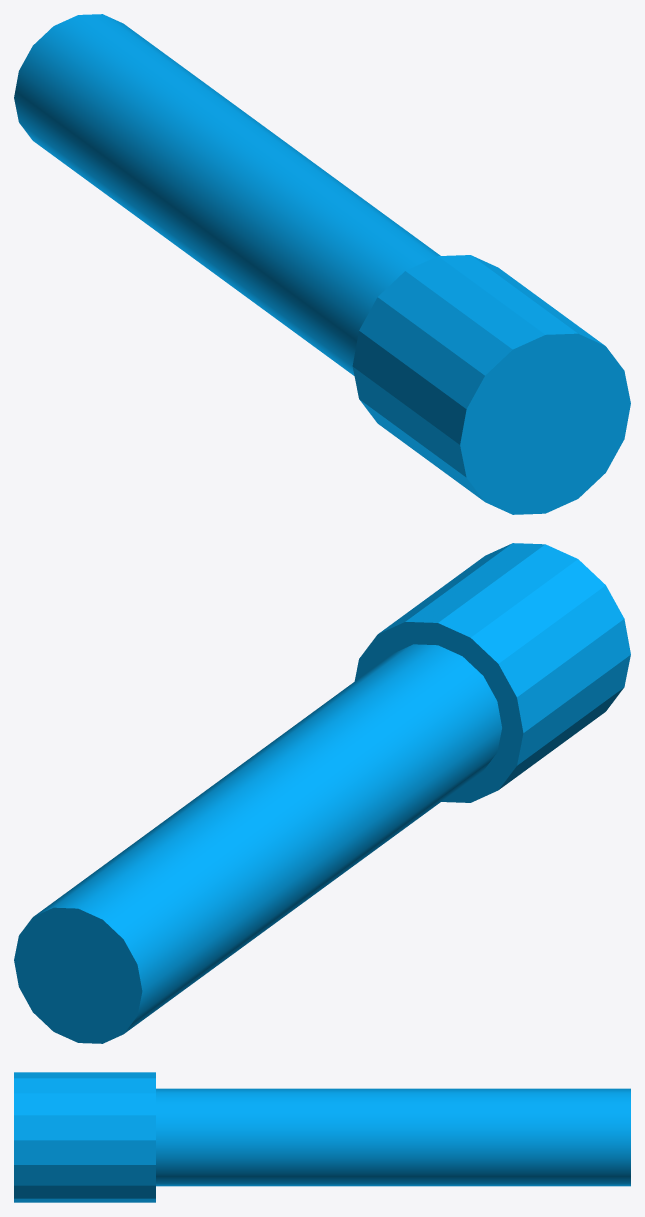
Rendered from Pipe.fbx.
3 views of the same model, one above another, from view 1: azimuth 30°, elevation 25°; view 2: azimuth 150°, elevation 25°; view 3: azimuth 270°, elevation 25° (orthographic). The views are drawn at different scales.
Visible parts, largest first — view 1: Pipe; view 2: Pipe; view 3: Pipe.
Boxes of the visible parts, left/top/right/bottom form: Pipe: left=14, top=14, right=630, bottom=514; Pipe: left=14, top=543, right=630, bottom=1043; Pipe: left=14, top=1072, right=630, bottom=1202.
Size of the model in its own units: 0.5485 by 0.5485 by 2.6.
